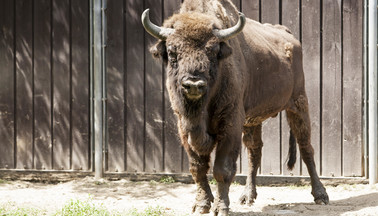zubr: (133, 5, 338, 212)
